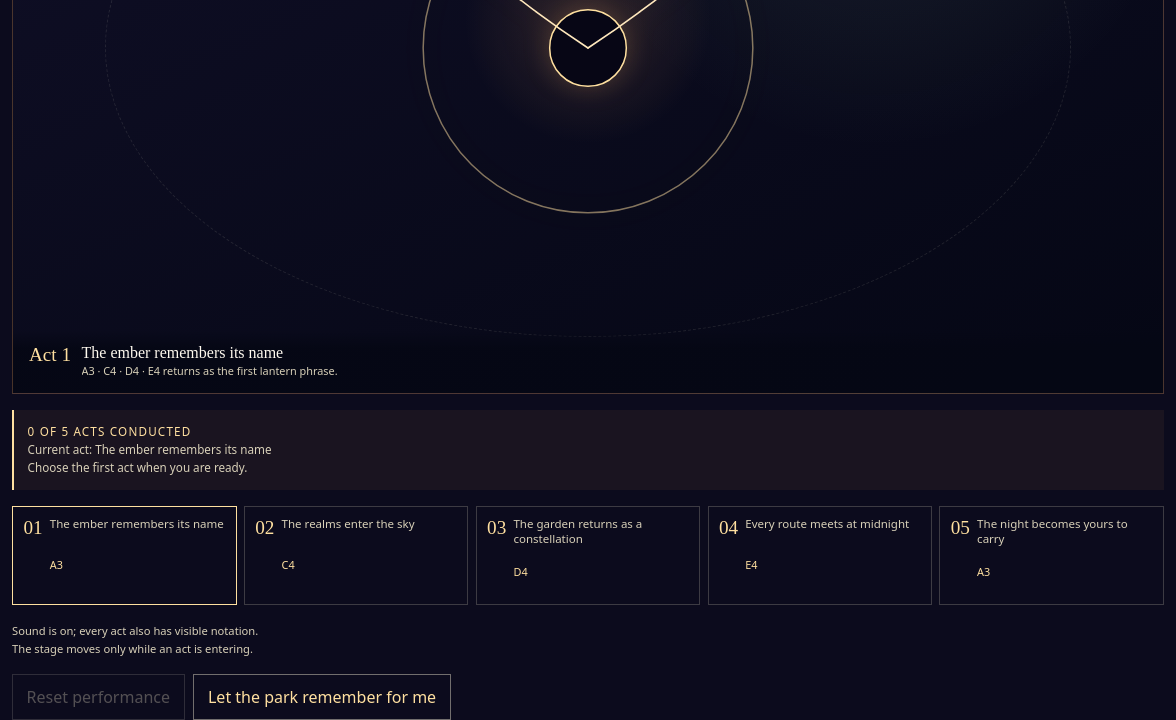
Test: ConstellaryConductor › explains an out-of-order act without losing the guest’s progress
This screenshot has width=1176, height=720.
(page scrolled)
Click the button "03 The garden returns as a constellation D4" at (588, 555), box 476,506 -> 700,605
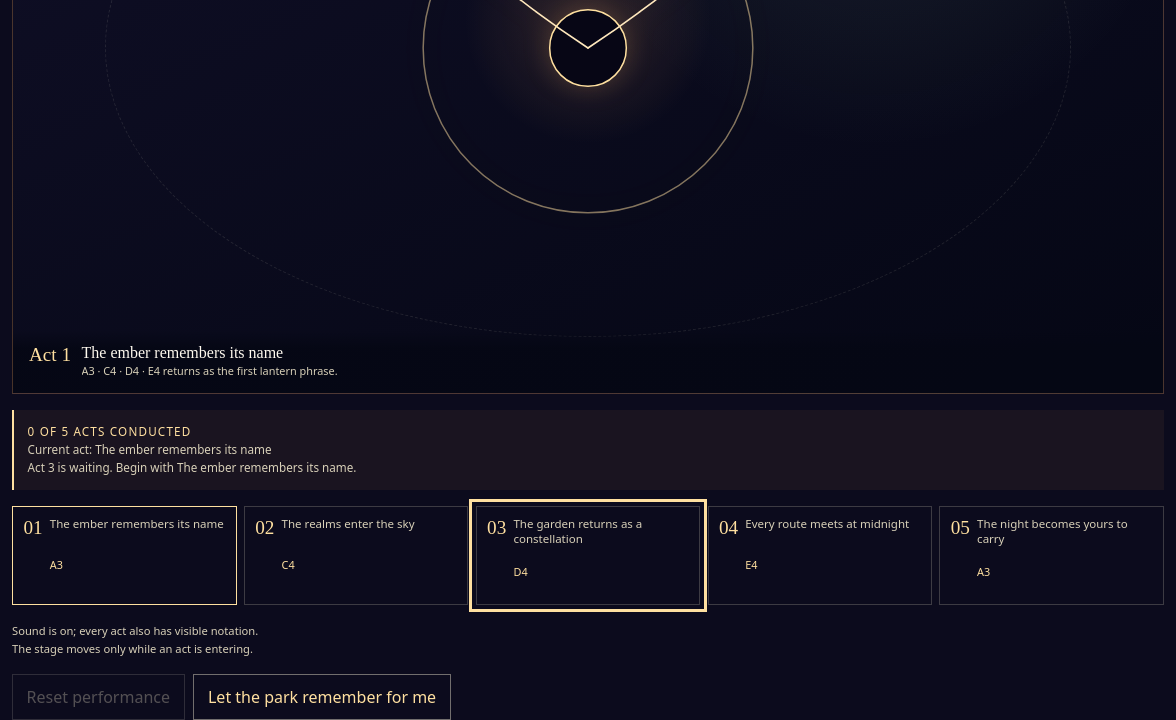
Expected: the message shows "0 of 5 acts conducted", 12,410 -> 1164,490
Expected: the message shows "Act 3 is waiting. Begin with The ember remembers its name.", 28,460 -> 356,475
Click the button "01 The ember remembers its name A3" at (124, 555), box 12,506 -> 237,605
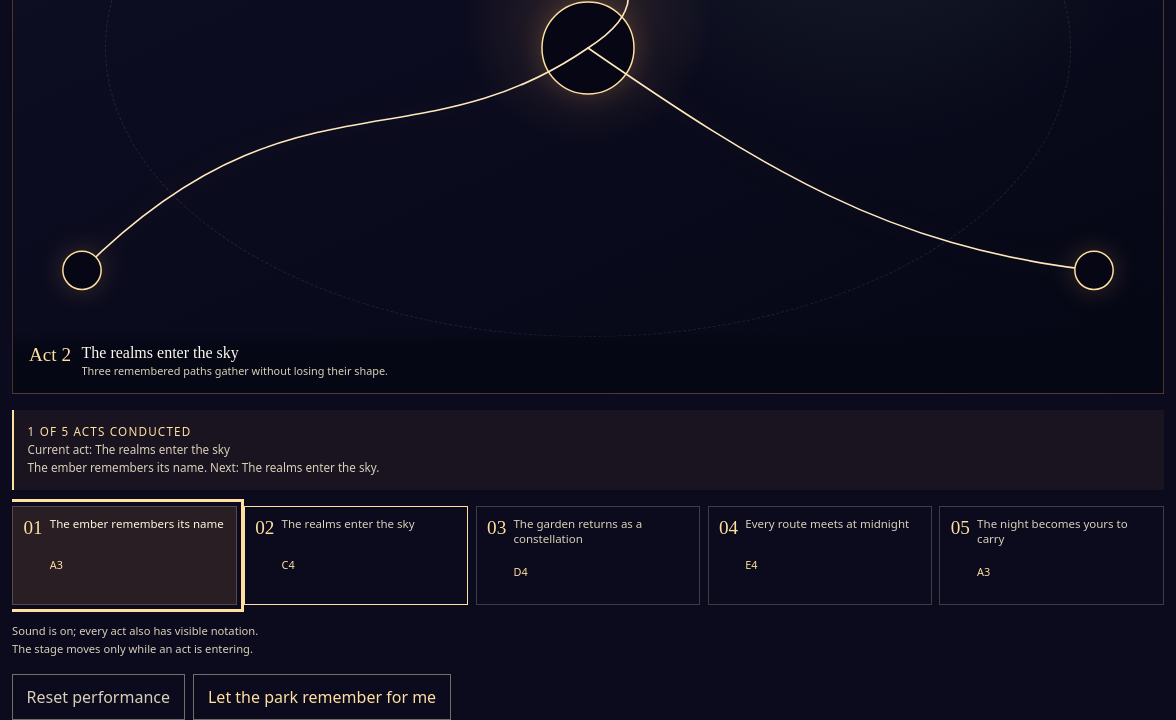
Expected: the message shows "1 of 5 acts conducted", 12,410 -> 1164,490
Expected: the message shows "Current act: The realms enter the sky", 28,442 -> 230,457
Click the button "02 The realms enter the sky C4" at (356, 555), box 244,506 -> 468,605
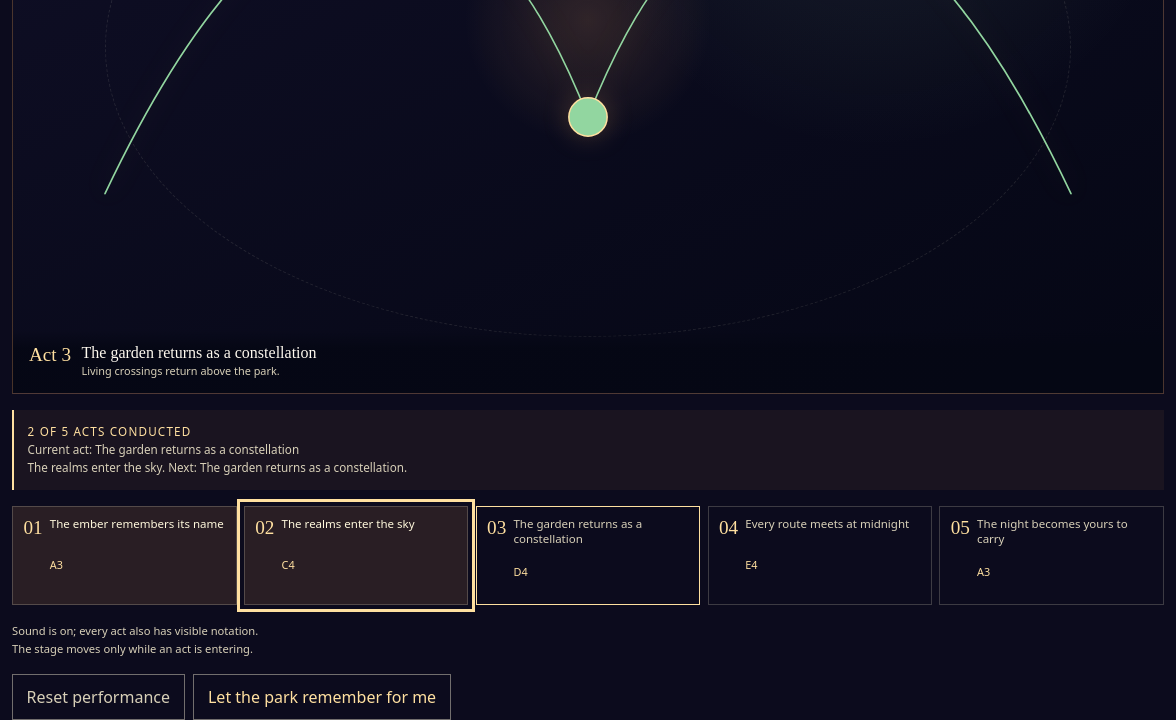
Expected: the message does not show "enters the sky enters the sky", 12,410 -> 1164,490
Expected: the message shows "The realms enter the sky. Next: The garden returns as a constellation.", 28,460 -> 407,475
